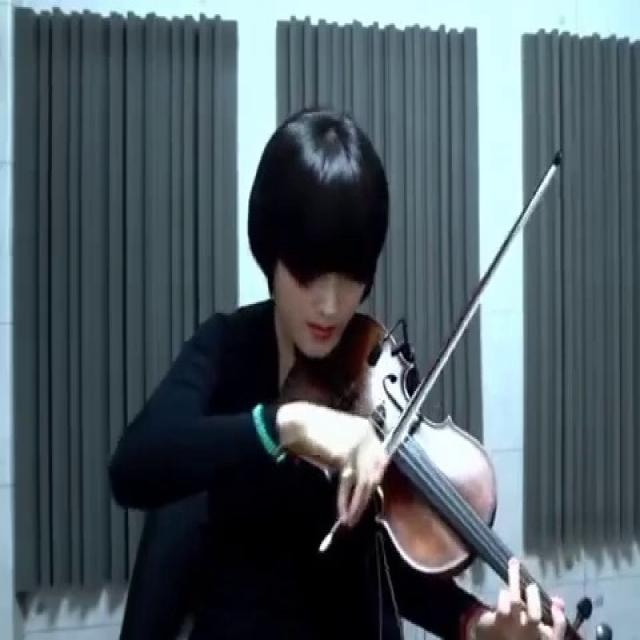Violin: (255, 286, 629, 640)
